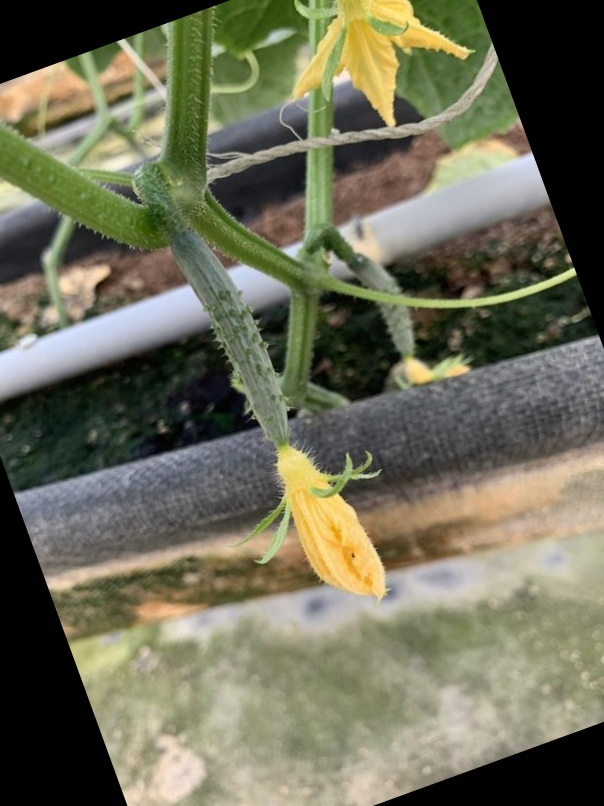bear: (165, 224, 367, 575)
